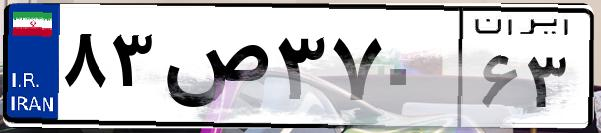0: (385, 28, 445, 110)
3: (270, 28, 330, 110), (525, 38, 570, 115), (110, 28, 158, 98)
6: (475, 38, 525, 113)
7: (330, 28, 385, 110)
8: (57, 26, 110, 100)
ص: (158, 20, 270, 120)
